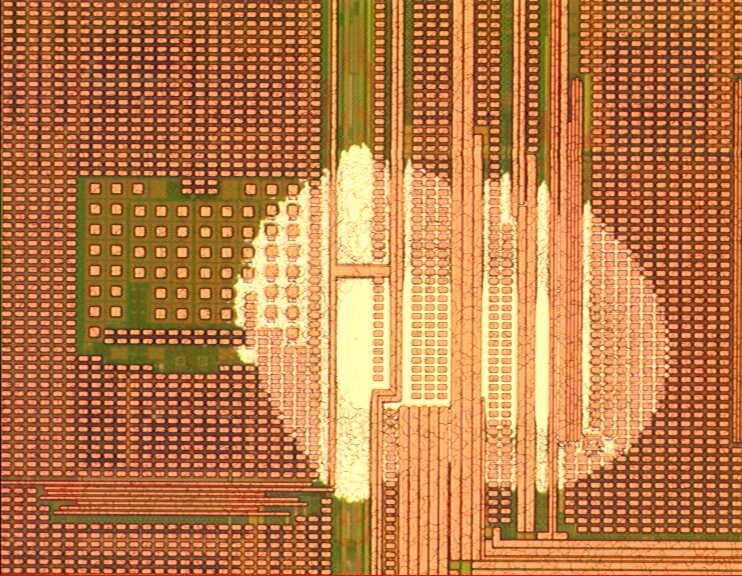BLOCK ETCH: (224, 142, 681, 504)
